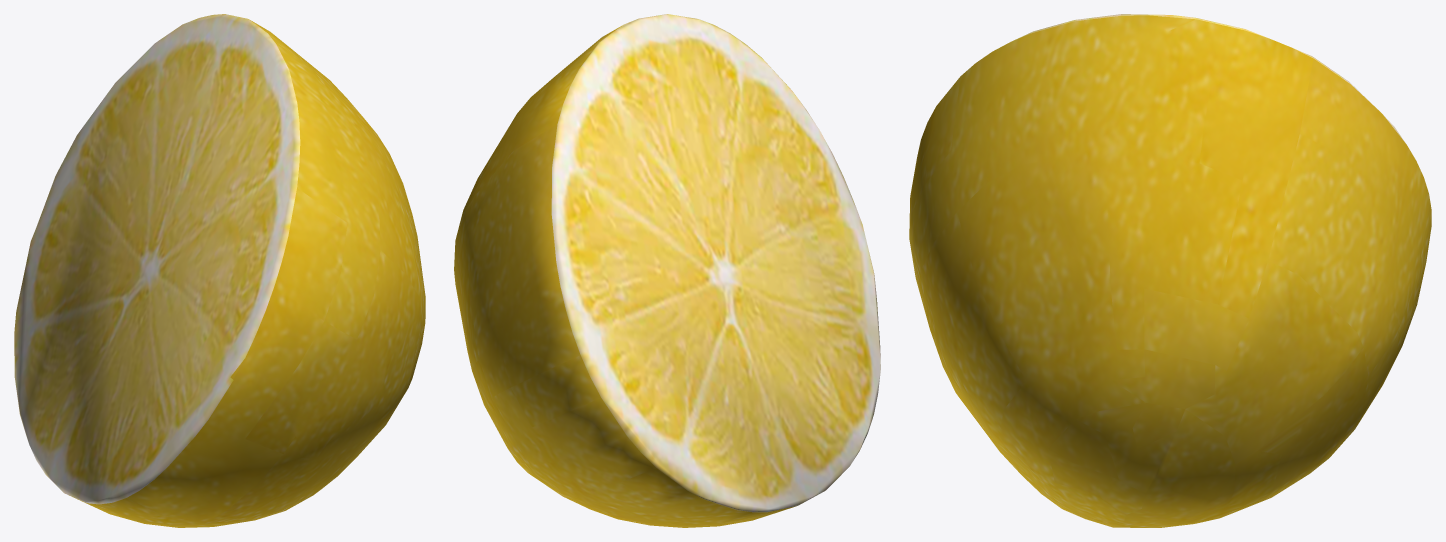
The model's file is Lemon 2.FBX.
The picture shows the model from 3 angles, left to right: view 1: azimuth 30°, elevation 25°; view 2: azimuth 150°, elevation 25°; view 3: azimuth 270°, elevation 25°; orthographic projection. The views are drawn at different scales.
Parts seen in each view (by area): view 1: lemon 2; view 2: lemon 2; view 3: lemon 2.
Part boxes in pixels (x1,y1,x2,y2): lemon 2: [14, 14, 425, 527]; lemon 2: [454, 14, 880, 527]; lemon 2: [909, 14, 1431, 527].
Bounding box in the file's own units: 4.99 × 6.46 × 5.9.
1 material, 1 textured.
